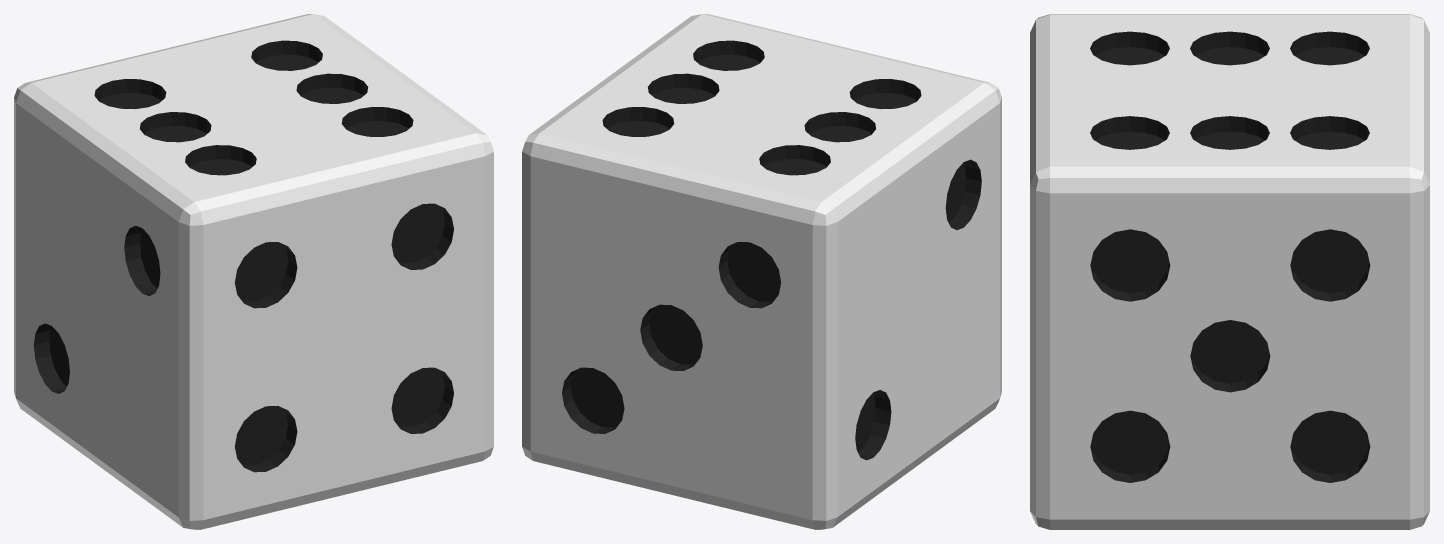
Rendered from die.glb.
3 views of the same model, side by side, from view 1: azimuth 30°, elevation 25°; view 2: azimuth 150°, elevation 25°; view 3: azimuth 270°, elevation 25° (orthographic). The views are drawn at different scales.
Parts seen in each view (by area): view 1: Cube; view 2: Cube; view 3: Cube.
Boxes of the visible parts, box(x1,y1,x2,y2) form: Cube: box(14, 14, 493, 529); Cube: box(522, 14, 1001, 529); Cube: box(1030, 14, 1429, 529).
Bounding box in the file's own units: 2 × 2 × 2.
1 material, 1 textured.
